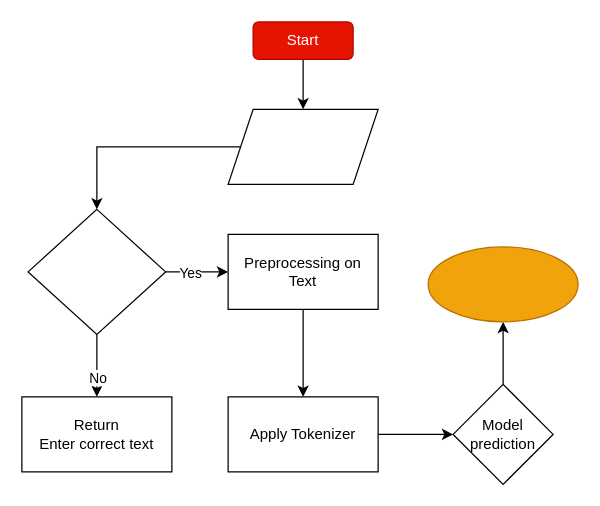
Some shapes in this 600 by 506 pixel diagram are drawn without their labels. Each missing label, with the box of its shape:
Enter the News: (227, 108, 378, 184)
Enter the text is valid: (27, 208, 166, 334)
Output: (427, 246, 578, 322)
